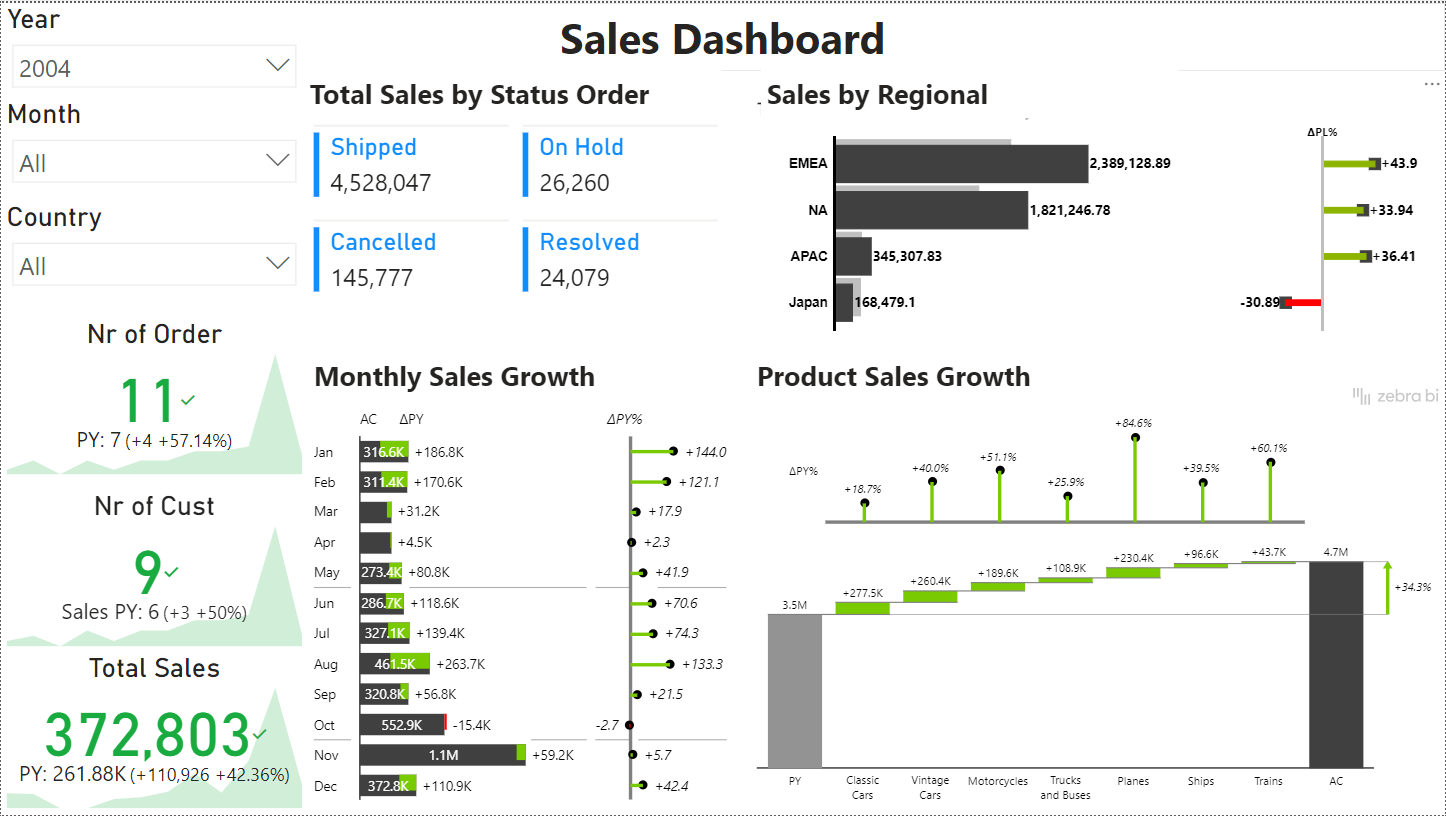

Layout of this report page (visuals, bound fields, positions):
{"tool":"powerbi","page":{"name":"Page 1","canvas":[1280,720],"ordinal":0},"visuals":[{"type":"textbox","box":[0,0,1280,60.3],"z":1000},{"type":"slicer","title":"Year","fields":{"Values":["Calendar.Year"]},"box":[0,0,272.2,130.3],"z":2000},{"type":"slicer","title":"Country","fields":{"Values":["sales_data_sample1.COUNTRY"]},"box":[0,175.3,272,104.3],"z":3000},{"type":"variance8E4BB1B41A8942A7B897C7014A6E1F56","fields":{"Category":["Calendar.Month"],"Values":["sales_data_sample1.Total Sales"],"PreviousYear":["sales_data_sample1.Total Sales PY"]},"box":[272,334,392.9,385.4],"z":4000},{"type":"kpi","title":"Total Sales","fields":{"Indicator":["sales_data_sample1.Total Sales"],"Goal":["sales_data_sample1.Total Sales PY"],"TrendLine":["Calendar.Month"]},"box":[0,575.8,272,143.6],"z":5000},{"type":"kpi","title":"Nr of Order","fields":{"Goal":["sales_data_sample1.Nr of Order PY"],"TrendLine":["Calendar.Month"],"Indicator":["sales_data_sample1.Nr of Order"]},"box":[0,279.6,272,143.6],"z":6000},{"type":"kpi","title":"Nr of Cust","fields":{"TrendLine":["Calendar.Month"],"Indicator":["sales_data_sample1.Nr of Cust"],"Goal":["sales_data_sample1.Nr of Cust PY"]},"box":[0,432.2,272,143.6],"z":7000},{"type":"textbox","box":[272,308.3,392.9,51.4],"z":8000},{"type":"waterfall6C9ED82ABD1F44C4A0D590CE01EB5EE7","fields":{"Category":["sales_data_sample1.PRODUCTLINE"],"Values":["sales_data_sample1.Total Sales"],"PreviousYear":["sales_data_sample1.Total Sales PY"]},"box":[664.9,334,615.1,385.4],"z":9000},{"type":"textbox","box":[664.9,308.3,389.9,51.4],"z":10000},{"type":"multiRowCard","title":"Sales by Status Order","fields":{"Values":["sales_data_sample1.STATUS","sales_data_sample1.Total Sales"]},"box":[272,102.8,182.9,194.9],"z":11000},{"type":"slicer","title":"Month","fields":{"Values":["Calendar.Month"]},"box":[0,84.6,272,90.7],"z":12000},{"type":"textbox","box":[269,58.9,370.2,43.8],"z":13000},{"type":"PBI_CV_0B9C9FBA_15A2_4A94_8AE4_8F778869B200","fields":{"myCategory":["sales_data_sample1.TERRITORY"],"actualMeasure":["sales_data_sample1.Total Sales"],"previousYearMeasure":["sales_data_sample1.Total Sales PY"]},"box":[664.9,84.6,615.1,223.7],"z":14000},{"type":"multiRowCard","title":"Sales by Status Order","fields":{"Values":["sales_data_sample1.STATUS","sales_data_sample1.Total Sales"]},"box":[457.9,102.8,182.9,194.9],"z":15000},{"type":"textbox","box":[674,58.9,370.2,43.8],"z":16000}]}

Visuals, with their boxes in screenshot pixels (x1, y1, x2, y2), scaled from the page's 1280x720 canvas onto the 1446x816 screenshot:
textbox: [left=0, top=0, right=1445, bottom=68]
"Year" slicer: [left=0, top=0, right=308, bottom=148]
"Country" slicer: [left=0, top=199, right=307, bottom=317]
variance8E4BB1B41A8942A7B897C7014A6E1F56 - Calendar.Month x sales_data_sample1.Total Sales: [left=307, top=379, right=751, bottom=815]
"Total Sales" kpi: [left=0, top=653, right=307, bottom=815]
"Nr of Order" kpi: [left=0, top=317, right=307, bottom=480]
"Nr of Cust" kpi: [left=0, top=490, right=307, bottom=653]
textbox: [left=307, top=349, right=751, bottom=408]
waterfall6C9ED82ABD1F44C4A0D590CE01EB5EE7 - sales_data_sample1.PRODUCTLINE x sales_data_sample1.Total Sales: [left=751, top=379, right=1445, bottom=815]
textbox: [left=751, top=349, right=1192, bottom=408]
"Sales by Status Order" multiRowCard: [left=307, top=117, right=514, bottom=337]
"Month" slicer: [left=0, top=96, right=307, bottom=199]
textbox: [left=304, top=67, right=722, bottom=116]
PBI_CV_0B9C9FBA_15A2_4A94_8AE4_8F778869B200 - sales_data_sample1.TERRITORY x sales_data_sample1.Total Sales: [left=751, top=96, right=1445, bottom=349]
"Sales by Status Order" multiRowCard: [left=517, top=117, right=724, bottom=337]
textbox: [left=761, top=67, right=1180, bottom=116]
